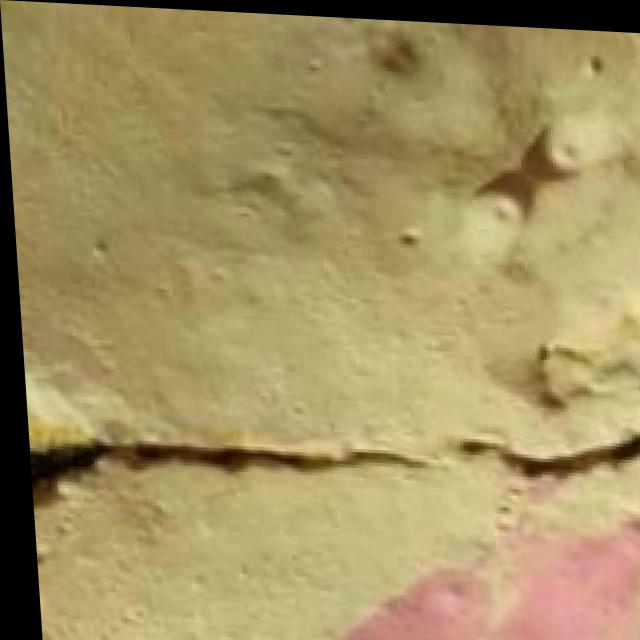Crack: (19, 360, 640, 560)
